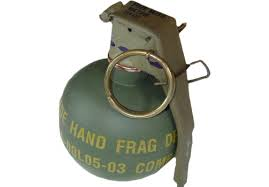bomb: (60, 2, 209, 187)
